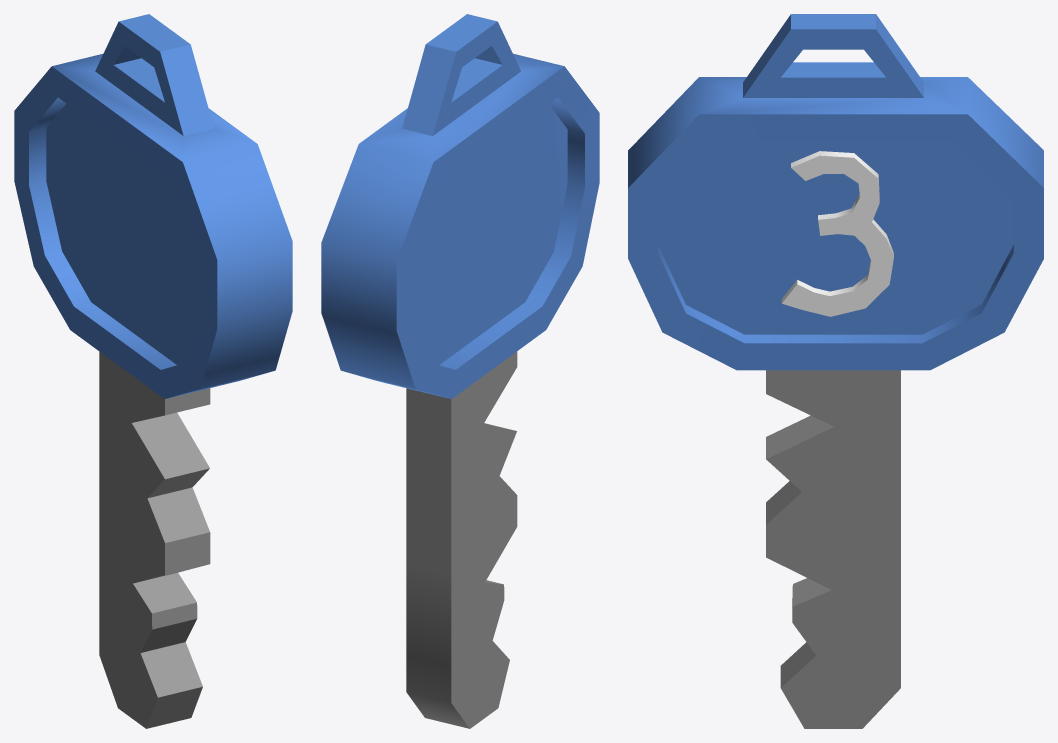
Rendered from Key_3.fbx.
The picture shows the model from 3 angles, left to right: view 1: azimuth 30°, elevation 25°; view 2: azimuth 150°, elevation 25°; view 3: azimuth 270°, elevation 25°; orthographic projection. The views are drawn at different scales.
Visible parts, largest first — view 1: Cube; view 2: Cube; view 3: Cube.
Boxes of the visible parts, x1,y1,x2,y2 form: Cube: [14, 14, 292, 728]; Cube: [321, 14, 599, 728]; Cube: [628, 14, 1043, 728].
Bounding box in the file's own units: 52.12 × 449 × 243.
